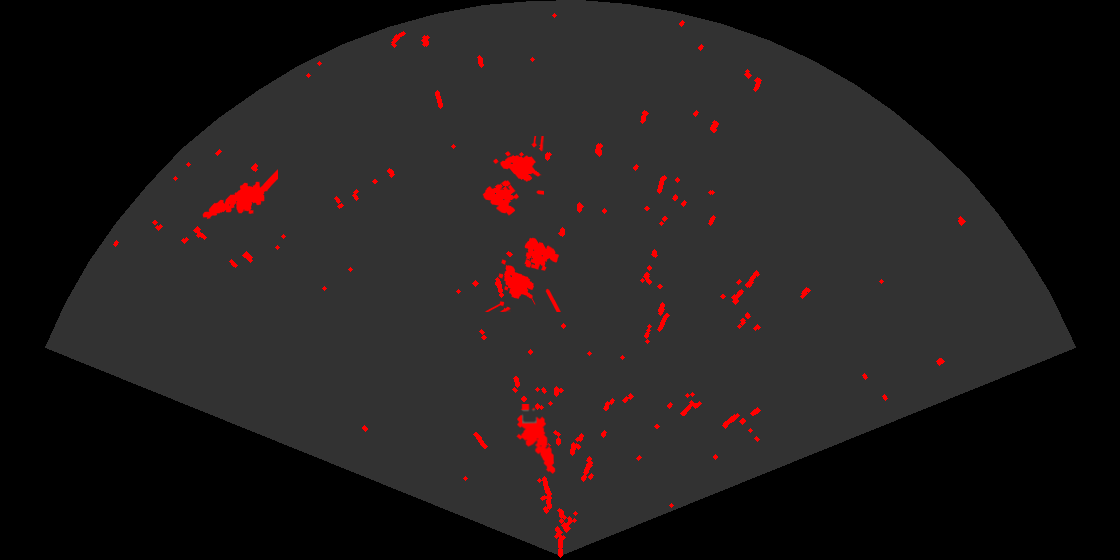cage: (484, 236, 562, 312), (481, 136, 544, 217)
frogman: (201, 168, 278, 221), (515, 404, 557, 475)
